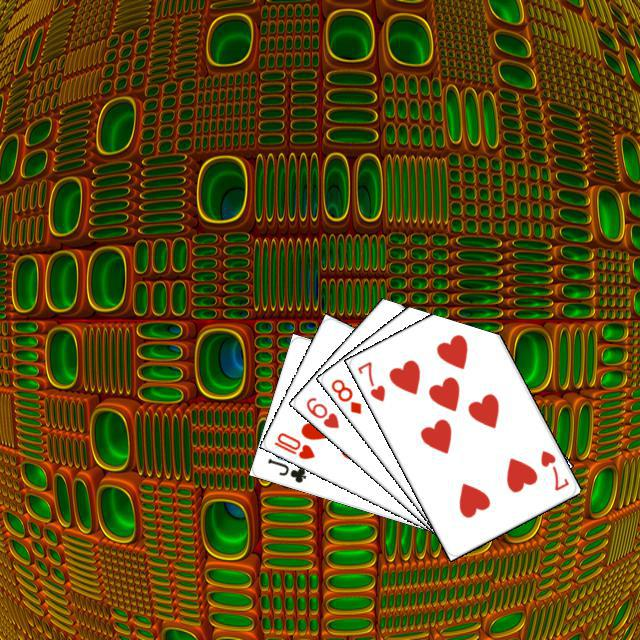10h: (269, 427, 317, 461)
6h: (301, 392, 341, 430)
7h: (535, 445, 571, 493), (352, 356, 387, 403)
8d: (326, 374, 363, 416)
Jc: (262, 453, 308, 485)
